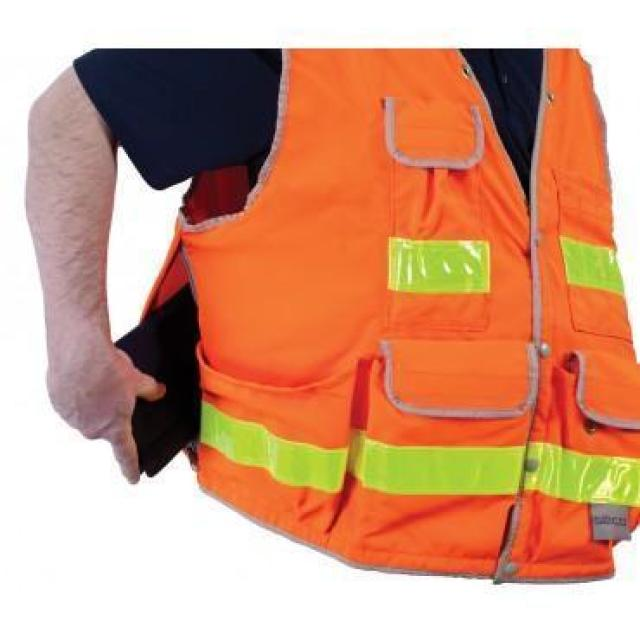Vest: (142, 47, 638, 586)
